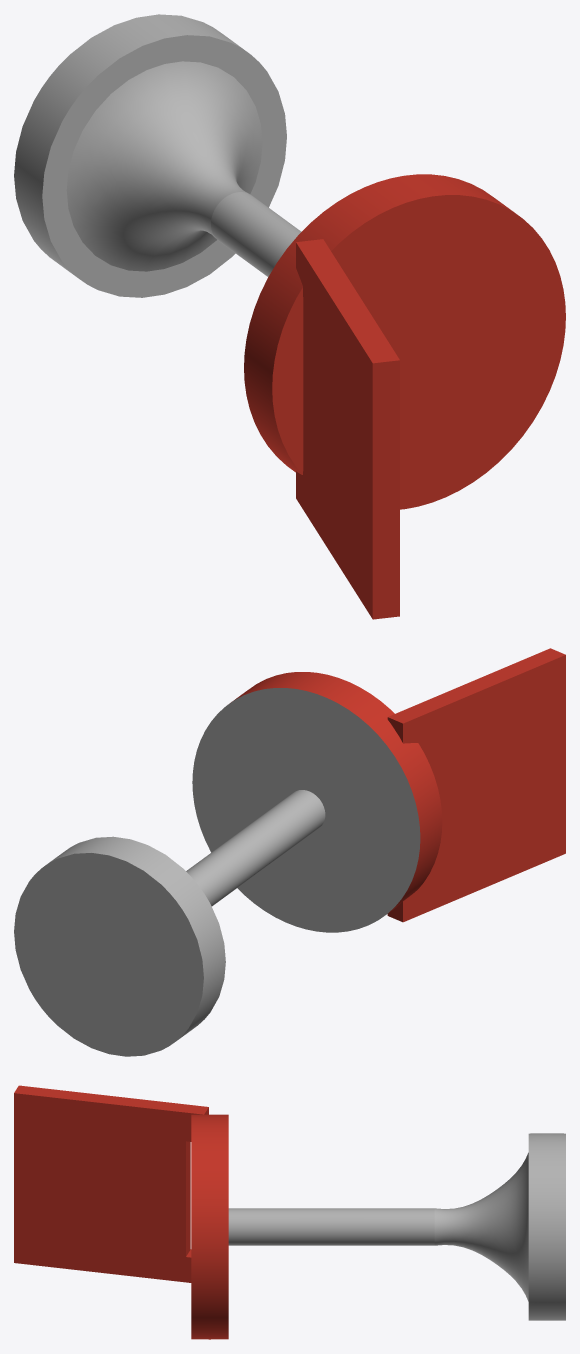
Rendered from BarStool.fbx.
3 views of the same model, one above another, from view 1: azimuth 30°, elevation 25°; view 2: azimuth 150°, elevation 25°; view 3: azimuth 270°, elevation 25° (orthographic). The views are drawn at different scales.
Visible parts, largest first — view 1: Body1, Body3; view 2: Body1, Body3; view 3: Body3, Body1.
Part boxes in pixels (left/top/right/bottom): Body1: left=14, top=14, right=565, bottom=509; Body3: left=296, top=239, right=399, bottom=619; Body1: left=14, top=672, right=442, bottom=1056; Body3: left=387, top=648, right=565, bottom=922; Body3: left=14, top=1085, right=208, bottom=1282; Body1: left=191, top=1114, right=565, bottom=1339.
Size of the model in its own units: 1.32 by 1.2 by 2.95.
